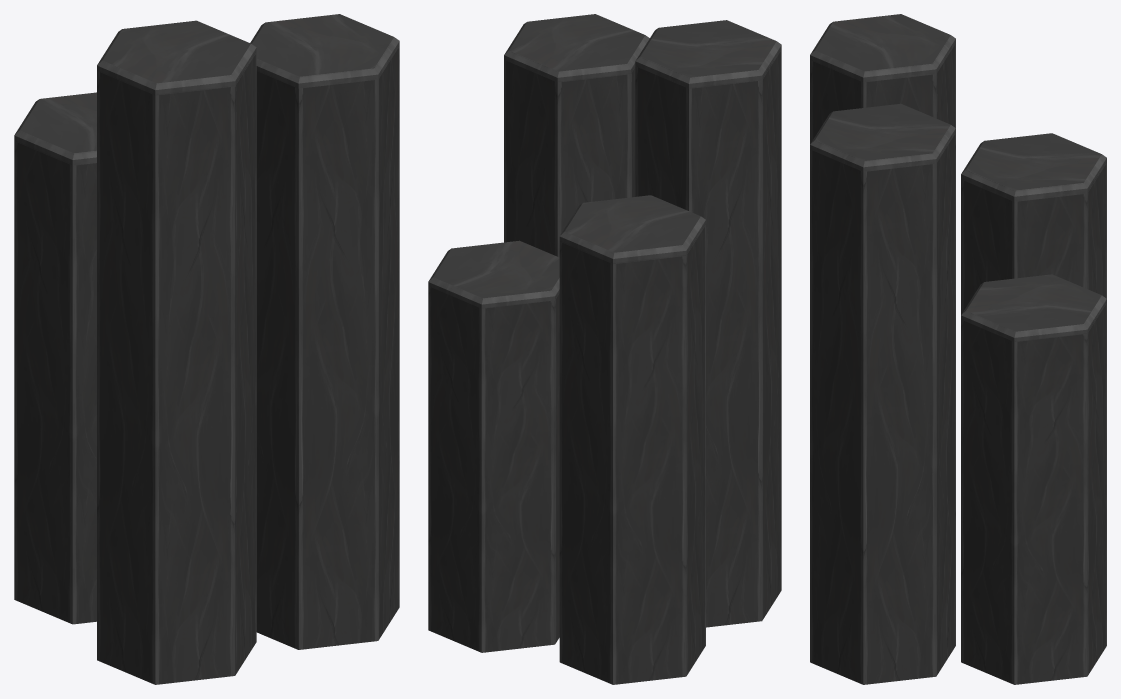
Rendered from SM_Causeway2.fbx.
3 renders of one model, left to right at view 1: azimuth 30°, elevation 25°; view 2: azimuth 150°, elevation 25°; view 3: azimuth 270°, elevation 25°, orthographic. The views are drawn at different scales.
Parts seen in each view (by area): view 1: Causeway2; view 2: Causeway2; view 3: Causeway2.
Boxes of the visible parts, x1,y1,x2,y2 form: Causeway2: (14, 14, 399, 684); Causeway2: (428, 14, 781, 684); Causeway2: (810, 14, 1106, 684).
Bounding box in the file's own units: 393 × 800 × 393.
